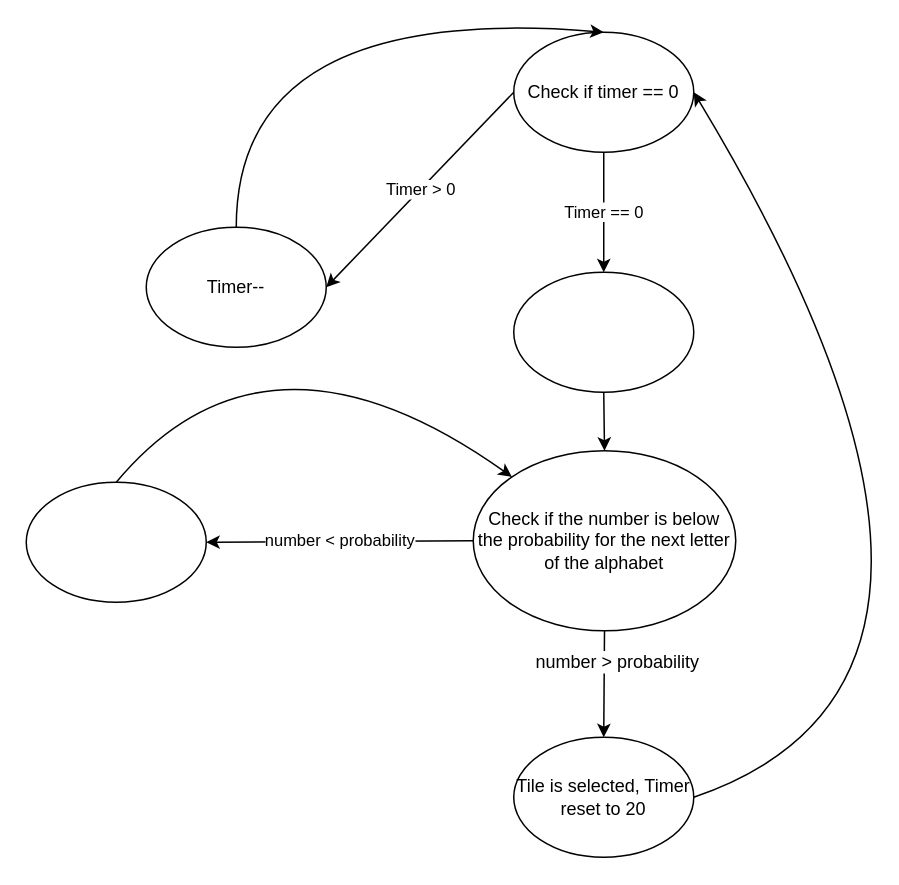
The diagram is 899 pixels wide and 885 high, and some of its shapes have lost their labels. Here are the shapes that lost their labels. From the top down, the box of each, then its label:
(512, 271, 694, 392): Generate random number
(25, 481, 206, 602): probability of the current letter is added to the next
